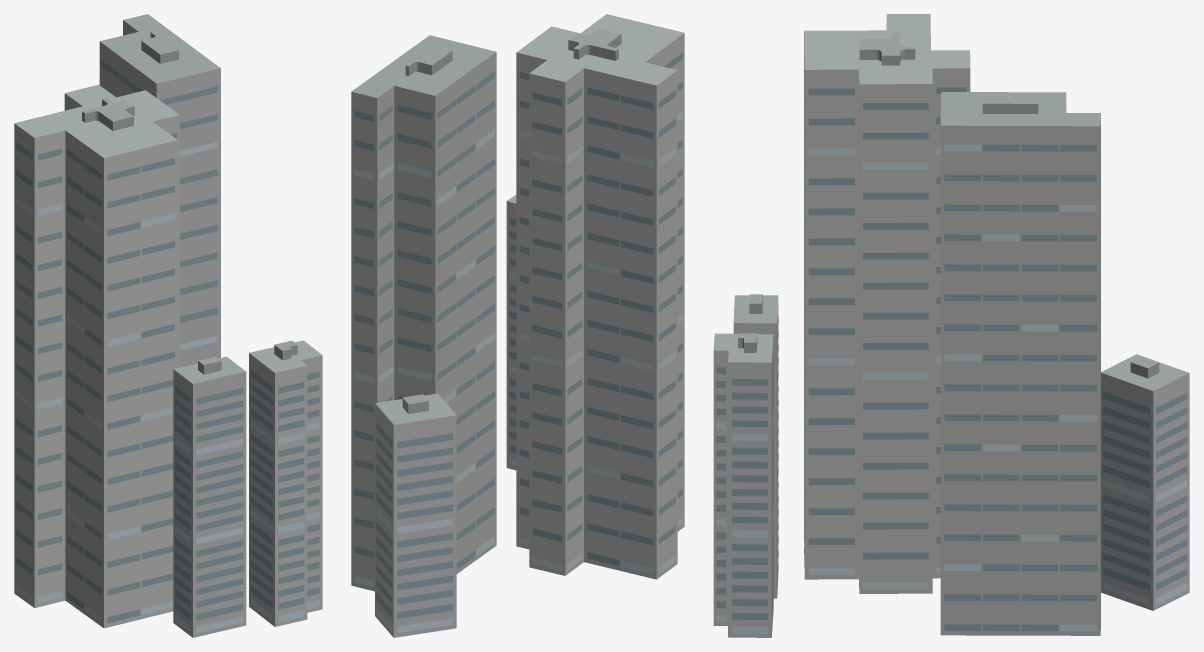
The model's file is apt-a14010002.glb.
3 views of the same model, side by side, from view 1: azimuth 30°, elevation 25°; view 2: azimuth 150°, elevation 25°; view 3: azimuth 270°, elevation 25° (orthographic). The views are drawn at different scales.
Parts seen in each view (by area): view 1: apt-a14010002; view 2: apt-a14010002; view 3: apt-a14010002.
Part boxes in pixels (x1,y1,x2,y2): apt-a14010002: (14, 14, 322, 637); apt-a14010002: (351, 14, 684, 637); apt-a14010002: (713, 14, 1189, 637).
Bounding box in the file's own units: 57.6 × 122 × 101.
